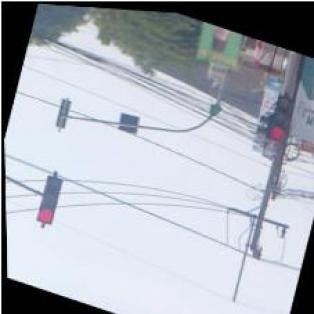Semaforo Rojo: (33, 174, 62, 224), (266, 90, 294, 141)
